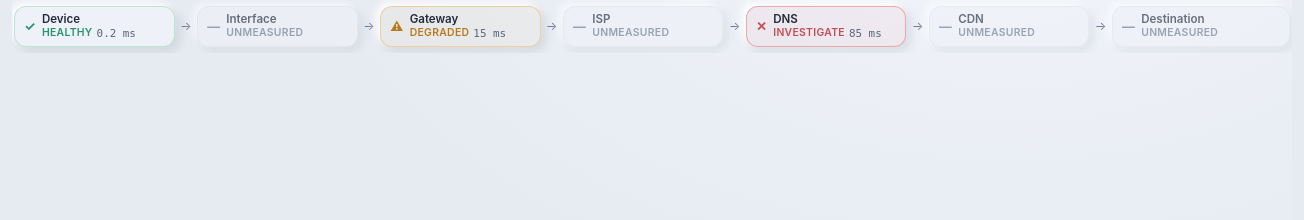
Test: DiagnosticChainStrip › allows closing the inspector drawer
Step 1. Click the button with aria-label "Gateway Hop" → (460,26), box [380, 6, 540, 47]
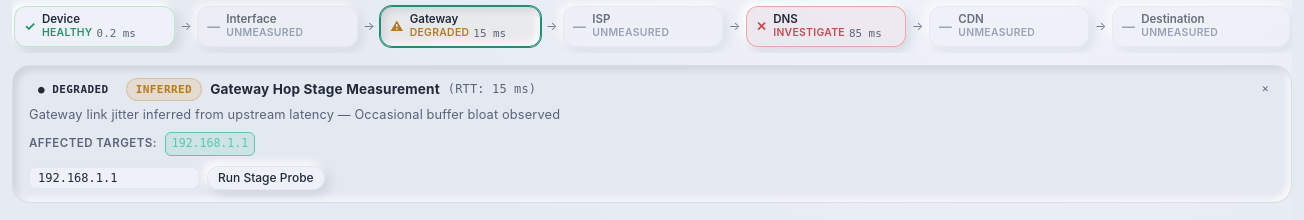
Expected: the text "Inferred" is shown, [126, 78, 202, 101]
Step 2. Click the button named "Close stage details" → (1265,89), box [1256, 82, 1275, 97]
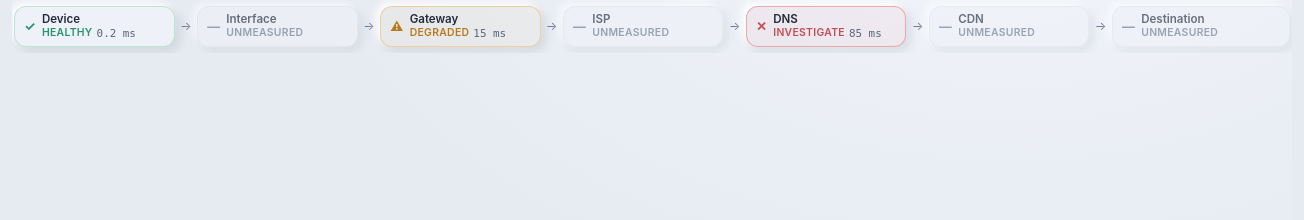
Expected: the text with test id "stage-measurement-badge" is gone
